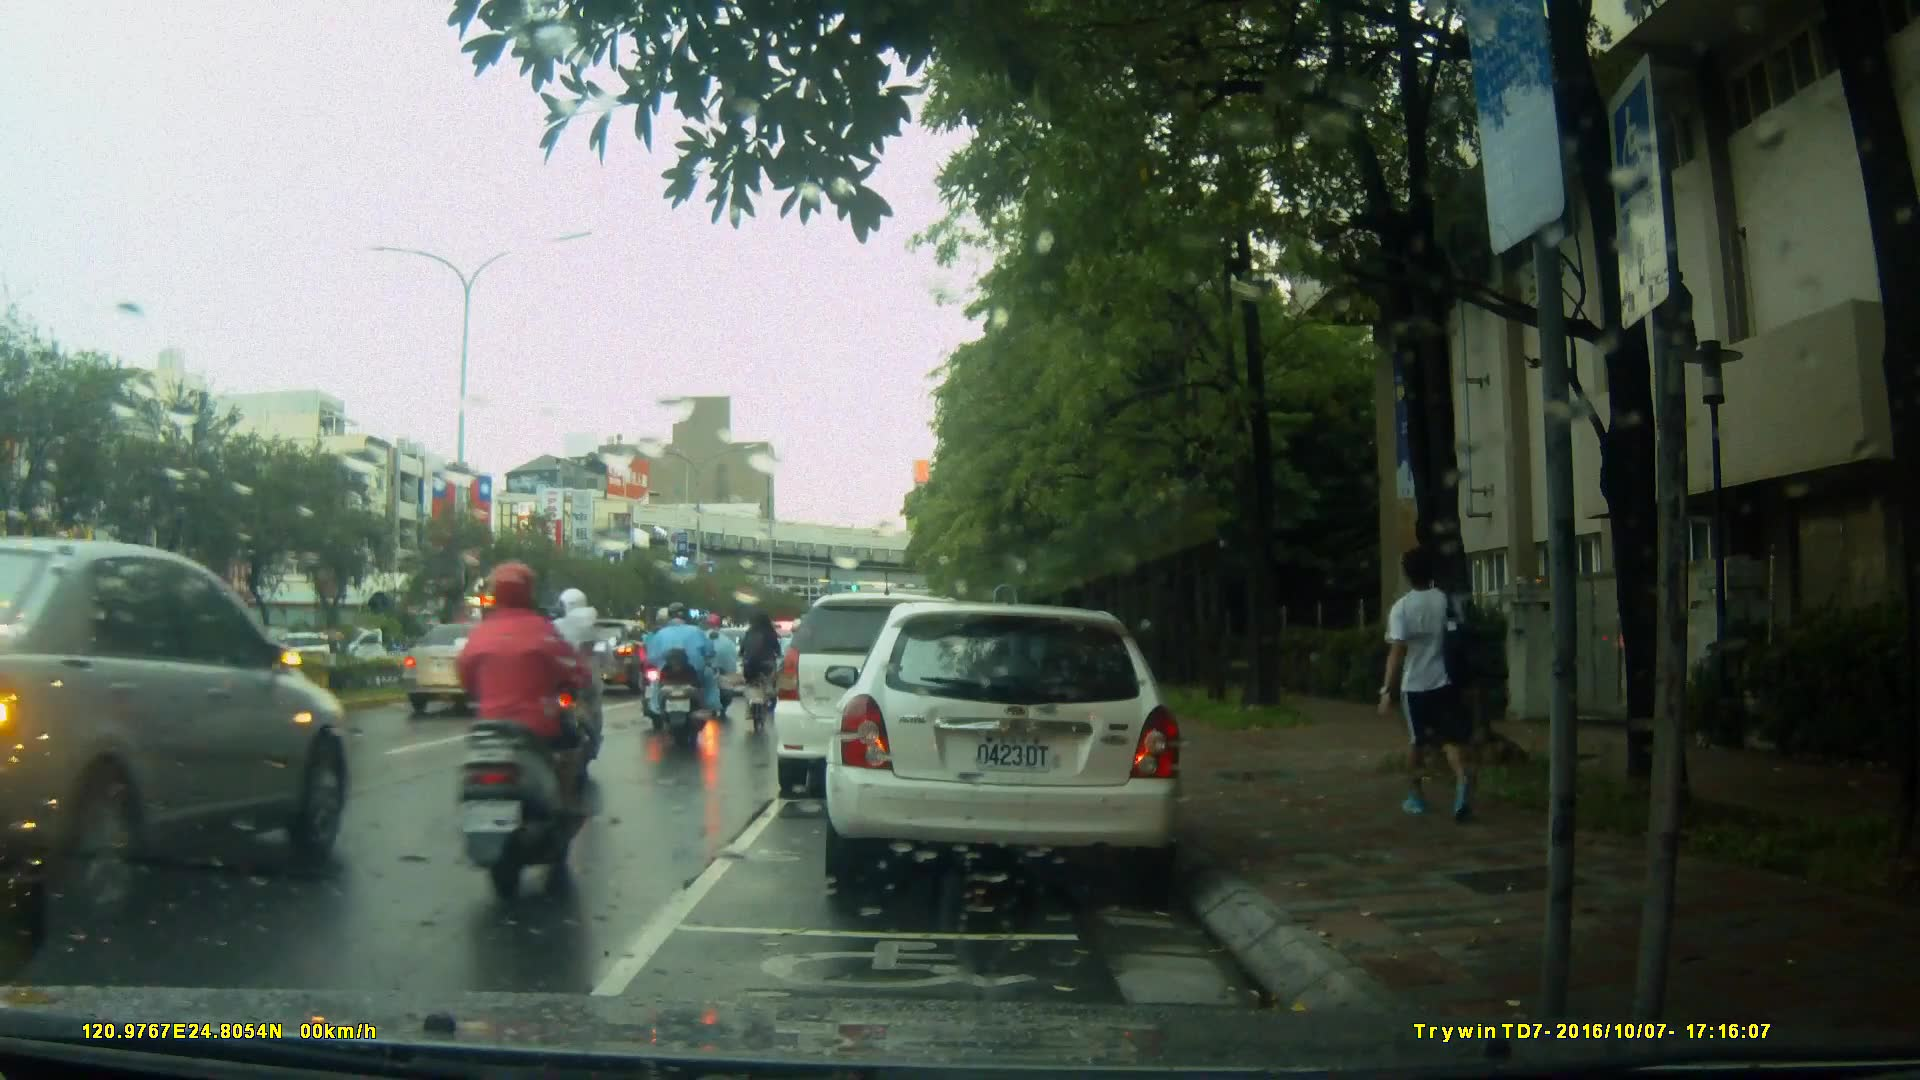pedestrian: (1388, 531, 1492, 846)
rider: (454, 560, 595, 911), (526, 593, 610, 788), (647, 606, 715, 751), (744, 606, 788, 746), (693, 609, 743, 715)
vehicle: (1, 533, 351, 945), (822, 604, 1188, 882), (774, 595, 995, 802), (401, 621, 548, 719)
